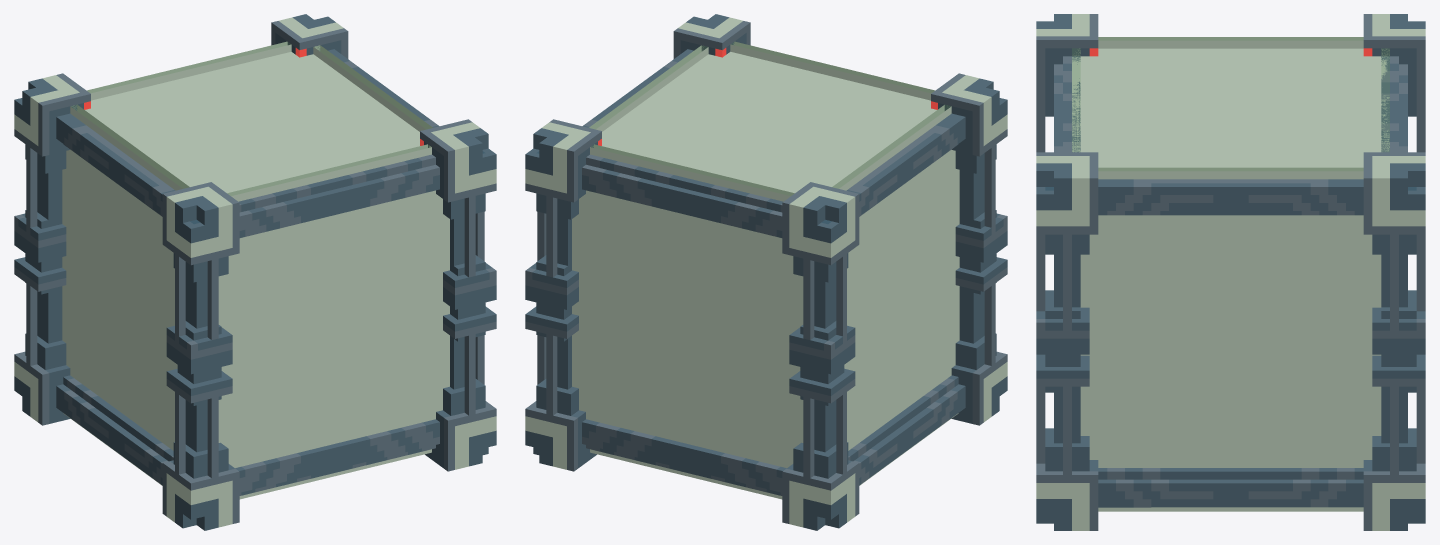
The picture shows the model from 3 angles, left to right: view 1: azimuth 30°, elevation 25°; view 2: azimuth 150°, elevation 25°; view 3: azimuth 270°, elevation 25°; orthographic projection. The views are drawn at different scales.
Visible parts, largest first — view 1: OUTER-GLASS, FRAME; view 2: OUTER-GLASS, FRAME; view 3: OUTER-GLASS, FRAME.
Boxes of the visible parts, bbox=[...] form: OUTER-GLASS: bbox=[14, 17, 496, 527]; FRAME: bbox=[14, 14, 496, 530]; OUTER-GLASS: bbox=[525, 17, 1007, 527]; FRAME: bbox=[525, 14, 1007, 530]; OUTER-GLASS: bbox=[1036, 14, 1425, 530]; FRAME: bbox=[1036, 14, 1425, 530].
Size of the model in its own units: 4.4 by 4.4 by 4.4.
5 materials, 3 textured.
